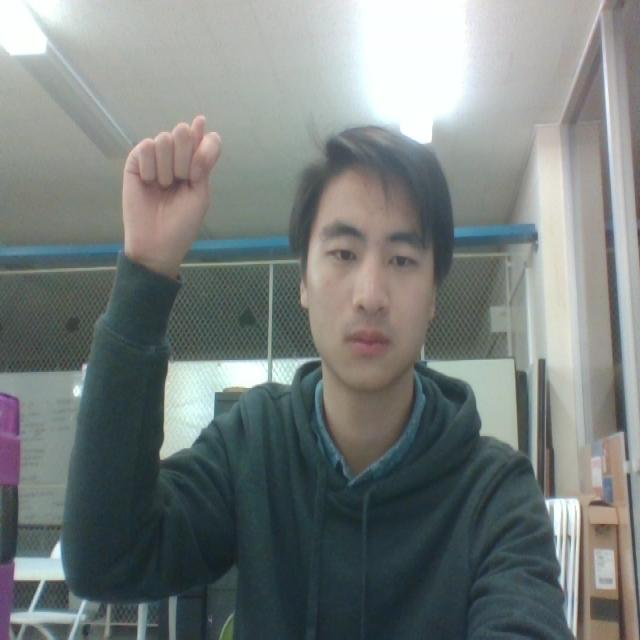T: (94, 84, 233, 282)
